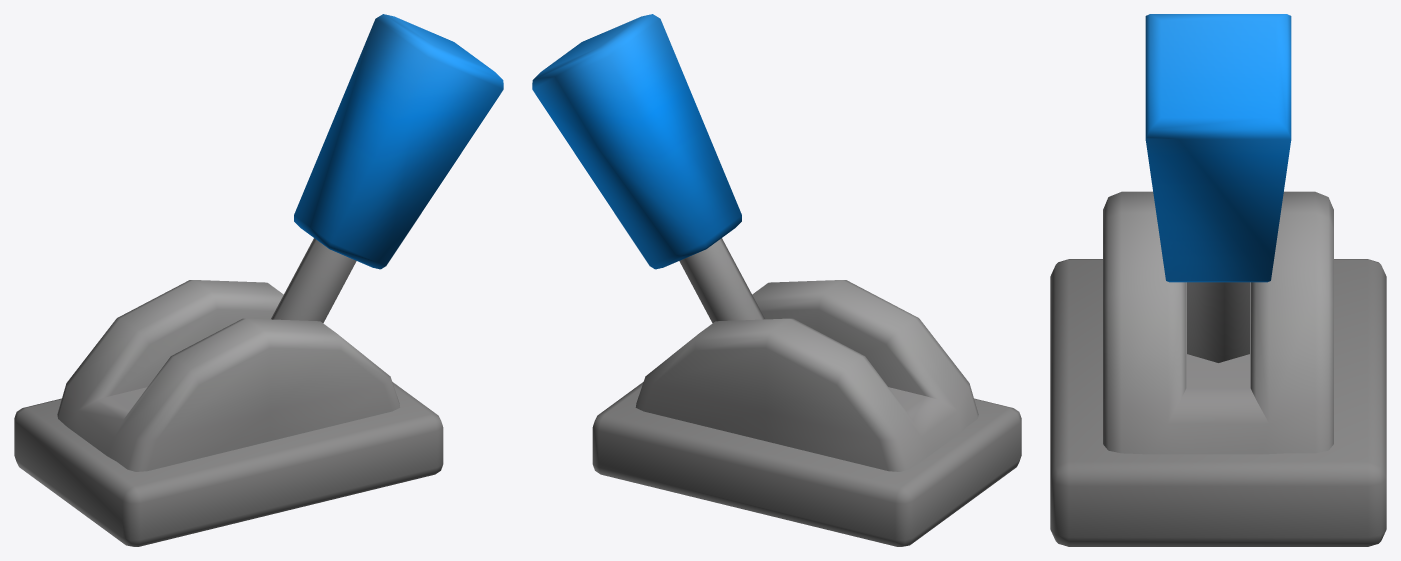
Rendered from Prop_Lever_01.fbx.
3 renders of one model, left to right at view 1: azimuth 30°, elevation 25°; view 2: azimuth 150°, elevation 25°; view 3: azimuth 270°, elevation 25°, orthographic. The views are drawn at different scales.
Visible parts, largest first — view 1: Prop_Lever_01, Prop_Lever_01_Handle; view 2: Prop_Lever_01, Prop_Lever_01_Handle; view 3: Prop_Lever_01, Prop_Lever_01_Handle.
Boxes of the visible parts, x1,y1,x2,y2 form: Prop_Lever_01: [14, 280, 443, 546]; Prop_Lever_01_Handle: [271, 14, 503, 323]; Prop_Lever_01: [592, 280, 1021, 546]; Prop_Lever_01_Handle: [532, 14, 764, 323]; Prop_Lever_01: [1050, 191, 1386, 546]; Prop_Lever_01_Handle: [1145, 14, 1291, 362].
Bounding box in the file's own units: 97.5 × 90.05 × 49.6.
